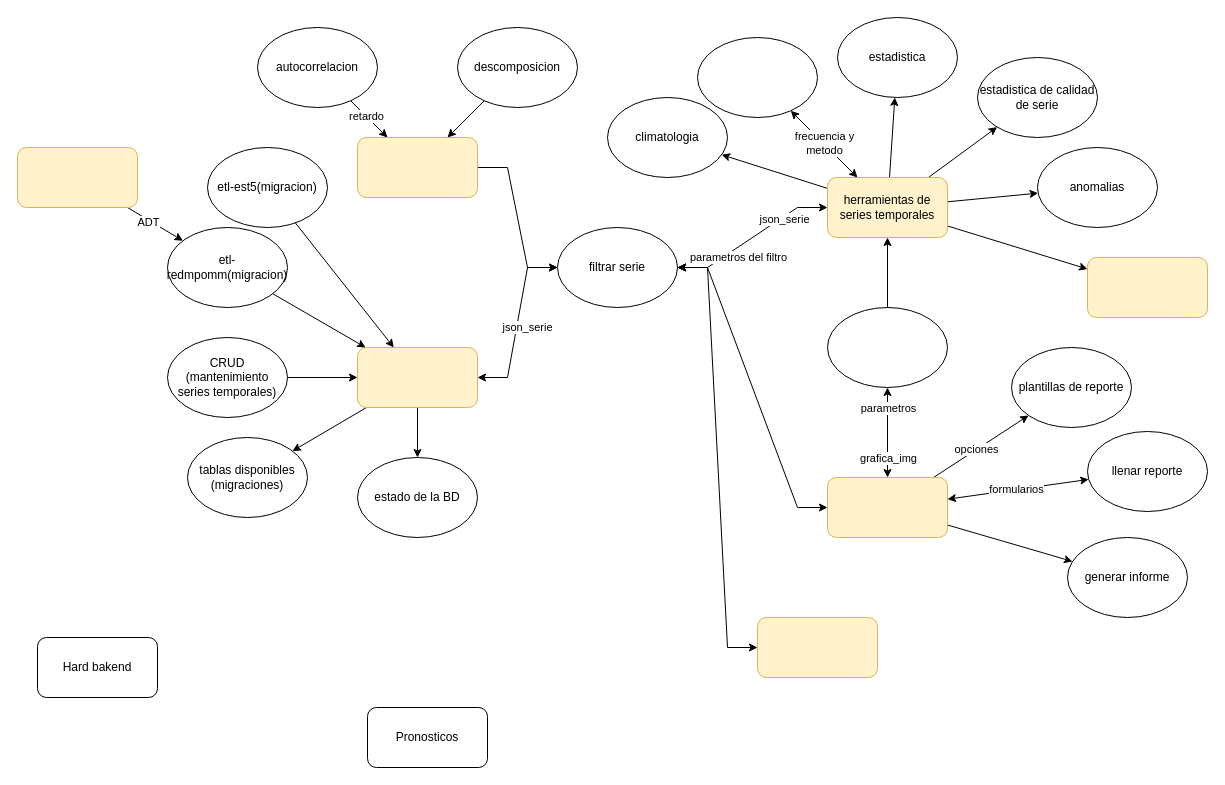
Some shapes in this 1225 by 785 pixel diagram are drawn without their labels. Here are the shapes that lost their labels. From the top down, the centre of each, then its label:
[757,77]: remuestreo
[77,177]: bases de datos de terceros
[417,167]: datamining series temporales
[1147,287]: EIS
[887,347]: generar grafica
[417,377]: Bases de datos
[887,507]: Reportes
[817,647]: Control de Calidad
